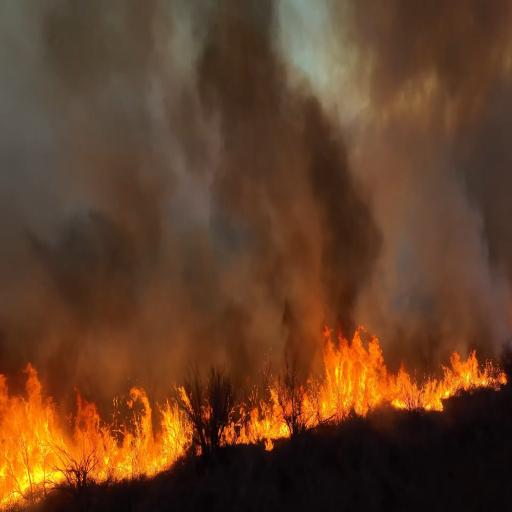fire: (64, 371, 159, 484), (305, 331, 391, 433), (386, 344, 498, 421), (0, 375, 61, 503), (226, 378, 295, 452), (154, 391, 195, 466)
smoke: (382, 6, 512, 336), (179, 6, 284, 368), (5, 170, 156, 362), (282, 60, 374, 318)
